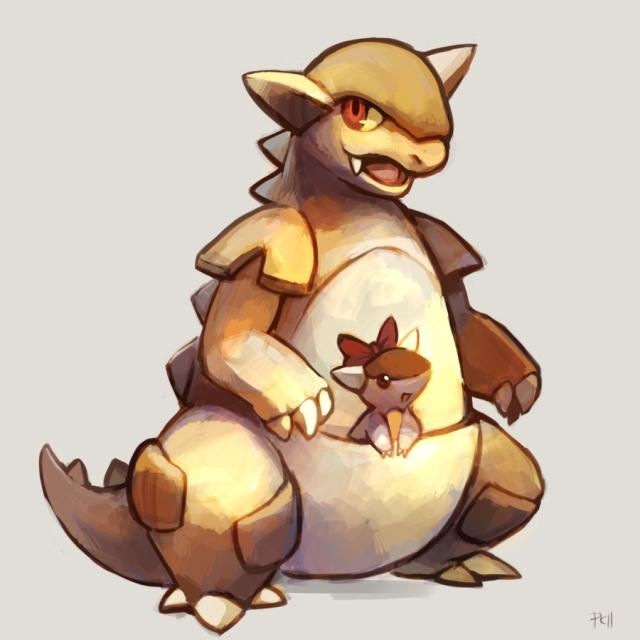Kangaskhan: (149, 38, 513, 592)
